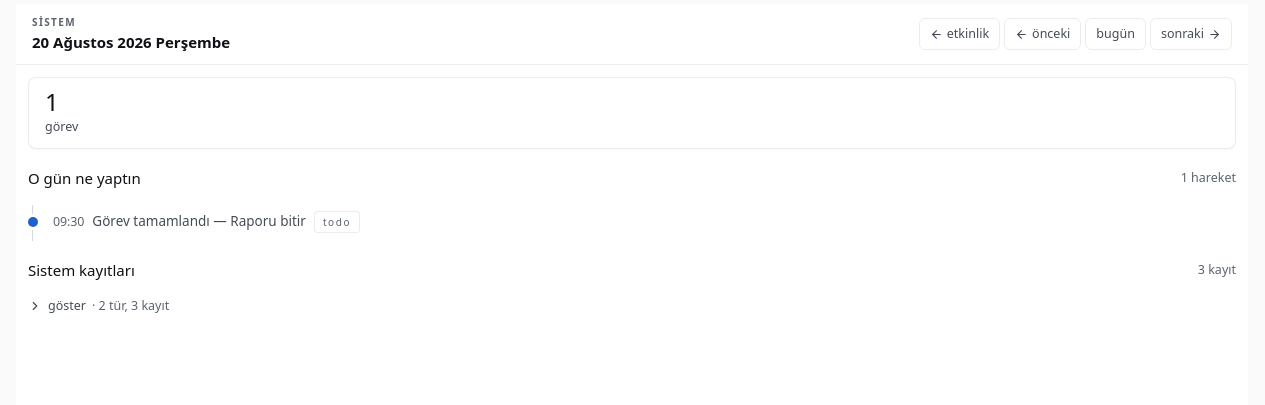
DayPage › worker kayıtlarını varsayılan olarak kapalı ve fiile göre toplu gösterir
The image size is (1265, 405).
Expected: the text "Kaynak senkronizasyonu tamamlandı" is not shown
Click the button "göster · 2 tür, 3 kayıt" at (67, 306), box left=28, top=297, right=1236, bottom=315
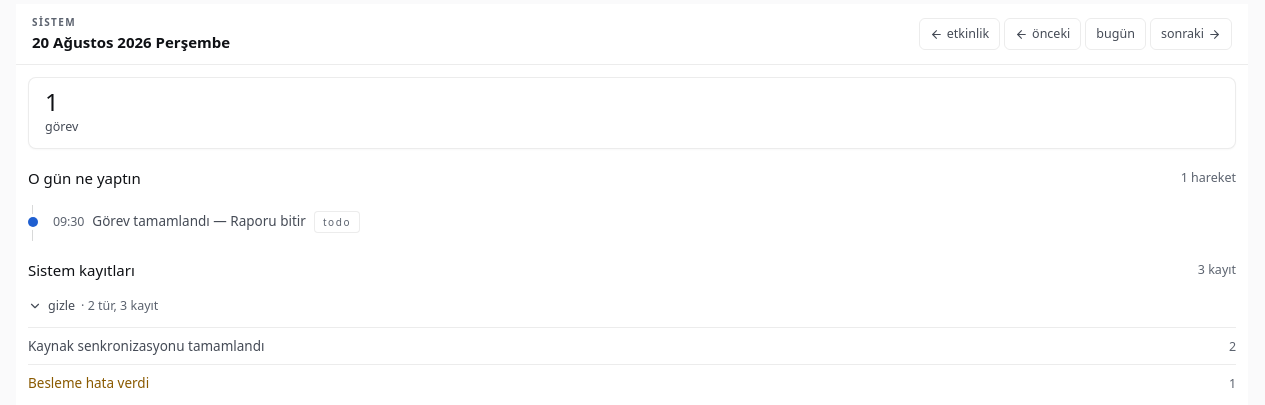
Result: the button "gizle · 2 tür, 3 kayıt" is shown at left=28, top=297, right=1236, bottom=315
Result: the text "Kaynak senkronizasyonu tamamlandı" is shown at left=28, top=336, right=264, bottom=356
Result: the text "2" is shown at left=1229, top=338, right=1236, bottom=356
